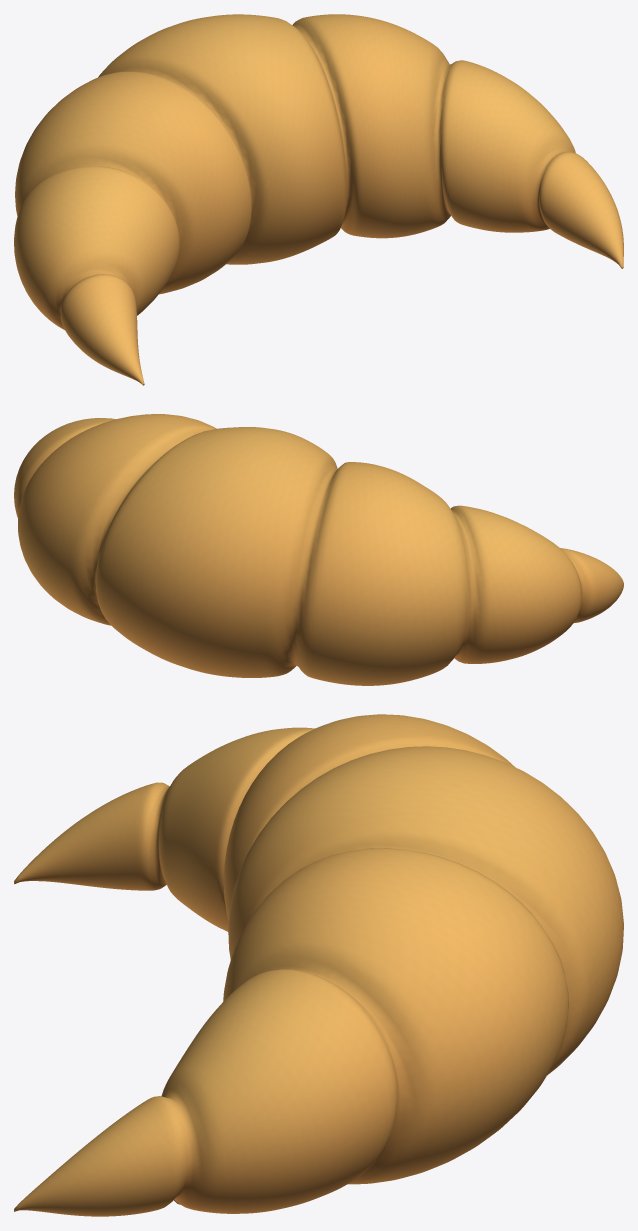
3 views of the same model, one above another, from view 1: azimuth 30°, elevation 25°; view 2: azimuth 150°, elevation 25°; view 3: azimuth 270°, elevation 25° (orthographic). The views are drawn at different scales.
Visible parts, largest first — view 1: Furniture_mesh; view 2: Furniture_mesh; view 3: Furniture_mesh.
Boxes of the visible parts, x1,y1,x2,y2 form: Furniture_mesh: (14, 14, 623, 385); Furniture_mesh: (14, 414, 623, 685); Furniture_mesh: (14, 714, 623, 1216).
Bounding box in the file's own units: 0.4393 × 0.1736 × 0.3083.
Materials: 2 (1 with a texture image).
